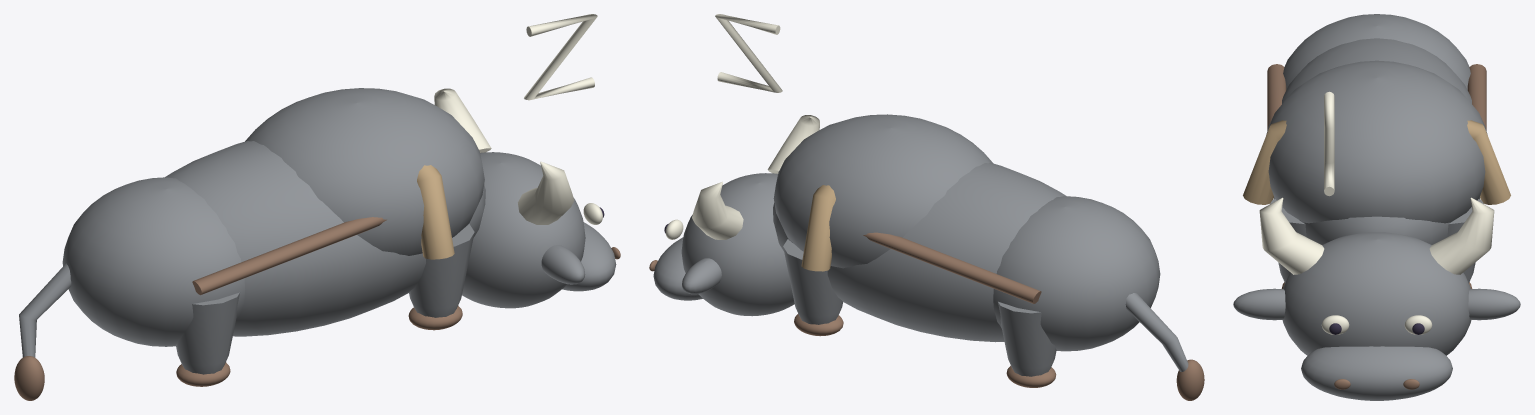
The model's file is conch_ox_sleep_equipped_BlackSleep.glb.
3 views of the same model, side by side, from view 1: azimuth 30°, elevation 25°; view 2: azimuth 150°, elevation 25°; view 3: azimuth 270°, elevation 25° (orthographic). The views are drawn at different scales.
Bounding box in the file's own units: 27.65 × 13.02 × 12.06.
